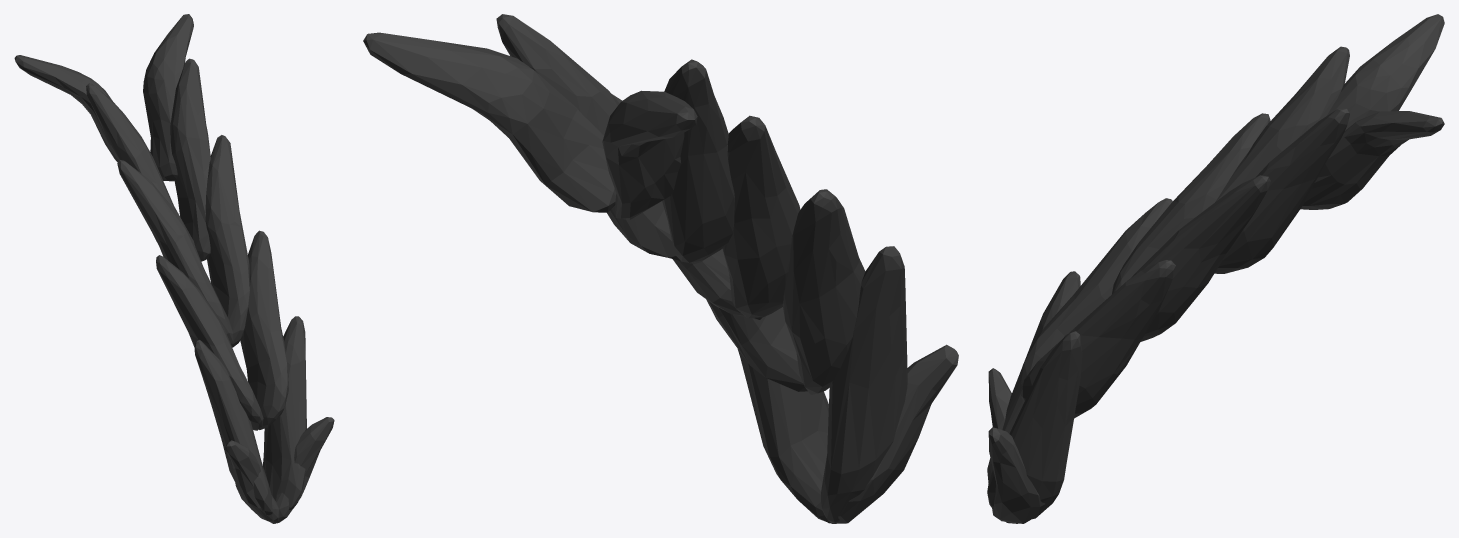
The model's file is multifidus_cervicis.glb.
The picture shows the model from 3 angles, left to right: view 1: azimuth 30°, elevation 25°; view 2: azimuth 150°, elevation 25°; view 3: azimuth 270°, elevation 25°; orthographic projection. The views are drawn at different scales.
Visible parts, largest first — view 1: multifidus_cervicis; view 2: multifidus_cervicis; view 3: multifidus_cervicis.
Boxes of the visible parts, bbox=[...] form: multifidus_cervicis: bbox=[14, 14, 334, 523]; multifidus_cervicis: bbox=[363, 14, 958, 523]; multifidus_cervicis: bbox=[987, 14, 1444, 523].
Size of the model in its own units: 0.00137 by 0.00269 by 0.00244.
Materials: 1 (1 with a texture image).
